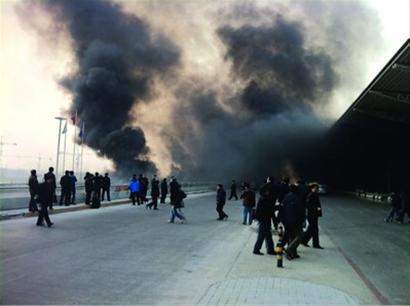smoke: (63, 5, 309, 160)
